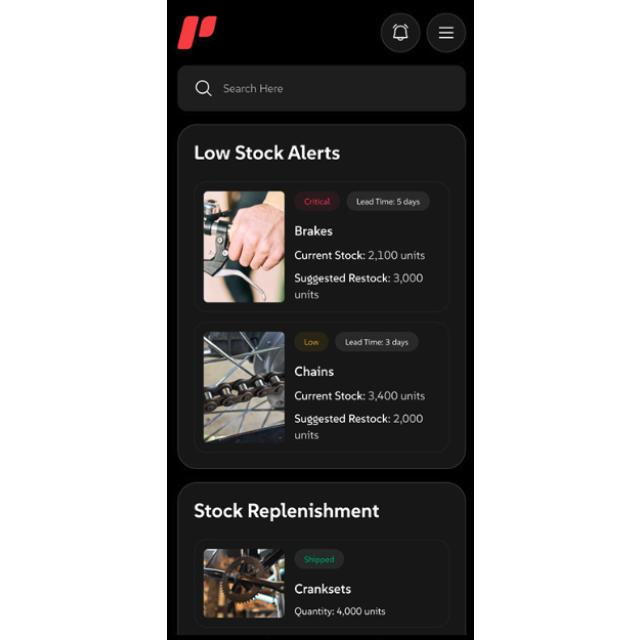QLabel: (194, 503, 380, 521), (192, 144, 340, 162), (293, 272, 422, 284), (294, 250, 424, 260), (292, 414, 390, 424), (292, 606, 386, 616), (294, 391, 364, 402), (368, 391, 424, 402), (344, 338, 408, 347), (293, 584, 349, 594), (355, 198, 419, 206), (293, 225, 331, 238), (294, 366, 334, 378), (392, 414, 422, 424), (302, 556, 334, 564), (294, 430, 318, 440), (304, 198, 330, 206), (292, 290, 318, 298), (303, 338, 319, 347)
VCard: (177, 122, 466, 470), (174, 480, 466, 640), (192, 181, 448, 313), (192, 322, 450, 452), (192, 538, 450, 628)
VChip: (346, 191, 430, 211), (334, 332, 418, 352), (294, 548, 344, 570), (293, 192, 339, 210), (294, 332, 328, 352)
VIcon: (390, 24, 408, 42), (437, 26, 453, 40)
VImg: (202, 331, 284, 444), (202, 190, 284, 302), (202, 548, 284, 618), (176, 15, 217, 50)
VTextField: (177, 65, 465, 111)
